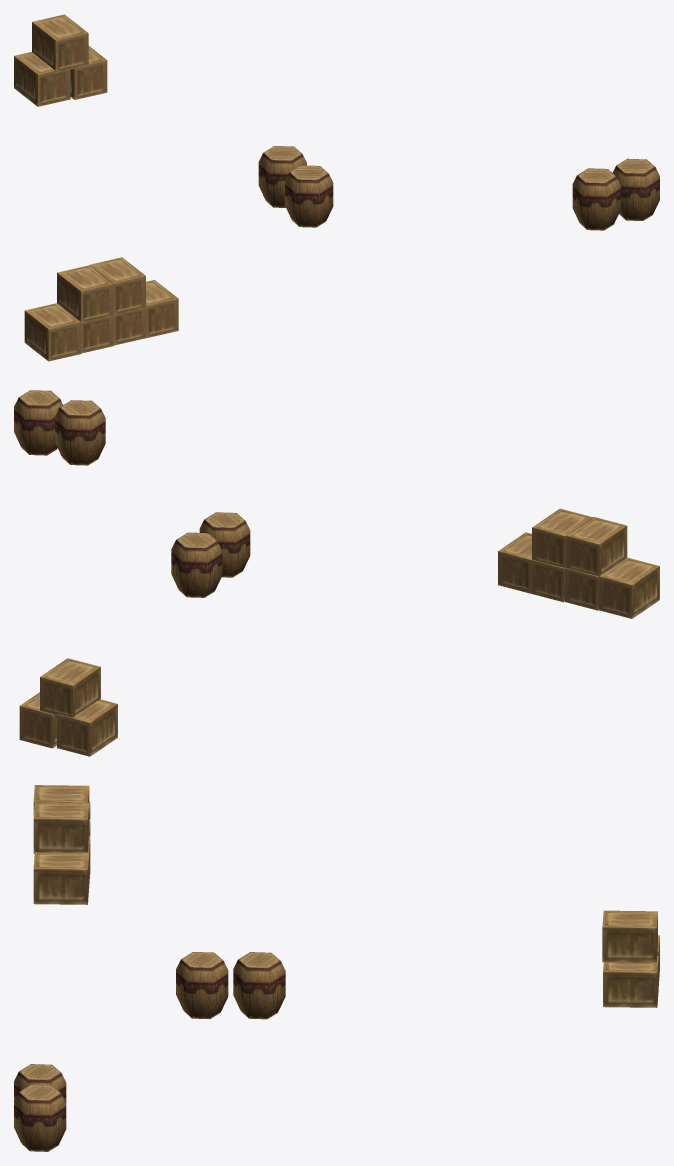
Rendered from Area_10_39.fbx.
The picture shows the model from 3 angles, top to bottom: view 1: azimuth 30°, elevation 25°; view 2: azimuth 150°, elevation 25°; view 3: azimuth 270°, elevation 25°; orthographic projection. The views are drawn at different scales.
Parts seen in each view (by area): view 1: Area_10_39; view 2: Area_10_39; view 3: Area_10_39.
Boxes of the visible parts, x1,y1,x2,y2 form: Area_10_39: (14,14,659,361); Area_10_39: (14,390,659,756); Area_10_39: (14,785,659,1151).
Size of the model in its own units: 1872 by 189 by 1594.
Materials: 1 (1 with a texture image).
